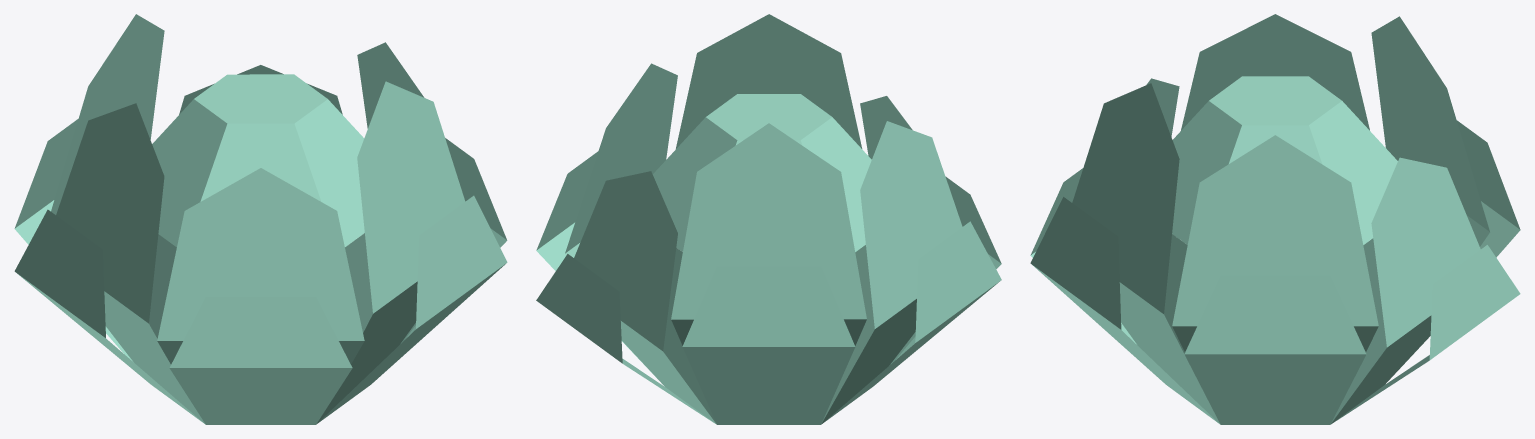
The model's file is cabbage.gltf.
The picture shows the model from 3 angles, left to right: view 1: azimuth 30°, elevation 25°; view 2: azimuth 150°, elevation 25°; view 3: azimuth 270°, elevation 25°; orthographic projection. The views are drawn at different scales.
Parts seen in each view (by area): view 1: cabbage; view 2: cabbage; view 3: cabbage.
Part boxes in pixels (x1,y1,x2,y2): cabbage: (14, 14, 507, 424); cabbage: (536, 14, 1001, 424); cabbage: (1030, 14, 1520, 424).
Size of the model in its own units: 1.14 by 0.9222 by 1.21.
